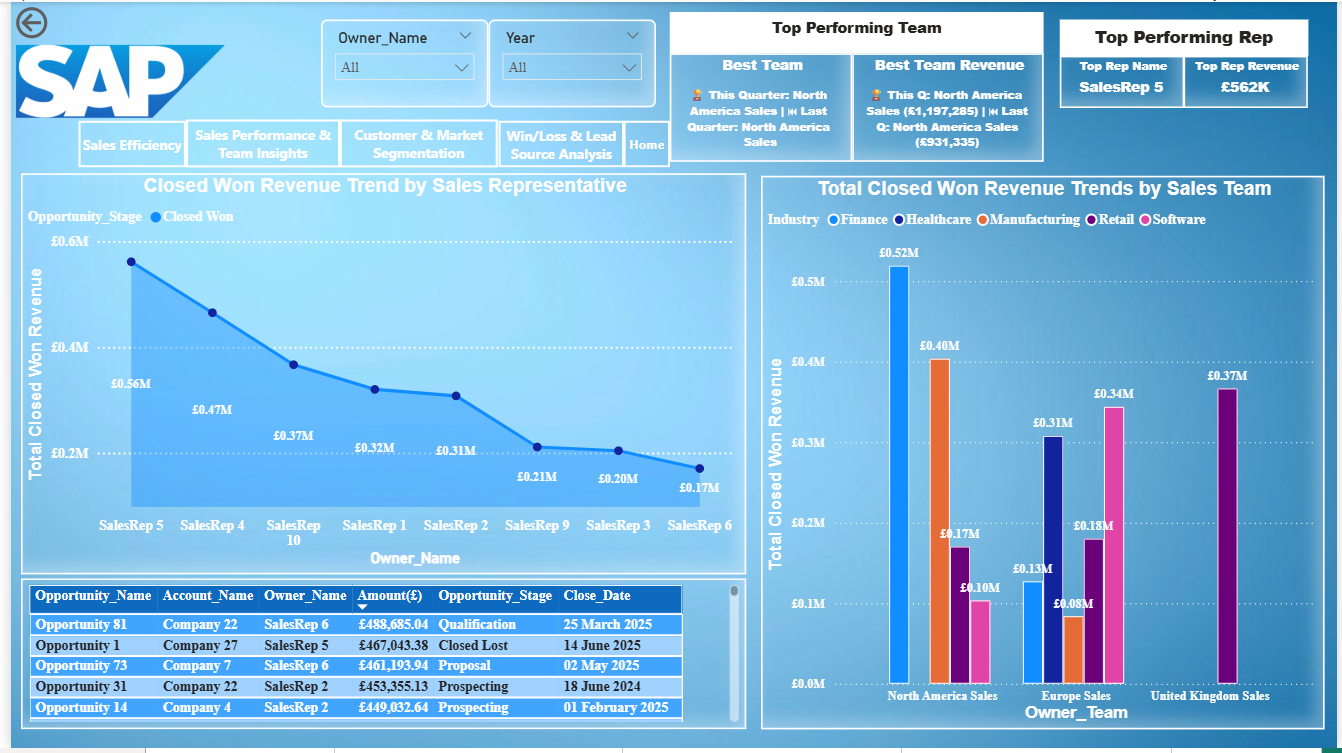

The page's visual inventory and layout, read from the dashboard file:
{"tool":"powerbi","page":{"name":"Sales Performance & Team Insights","canvas":[1280,720],"ordinal":1},"visuals":[{"type":"group","id":"g1","title":"Group 2","box":[1012.2,16.9,240.1,85.7],"z":0},{"type":"group","id":"g2","title":"Group 1","box":[635.8,9.7,360.7,146],"z":1000},{"type":"actionButton","box":[0,0,100,40],"z":2000},{"type":"image","box":[0,30.2,211.1,92.9],"z":3000},{"type":"stackedAreaChart","title":"Closed Won Revenue Trend by Sales Representative","fields":{"Y":["Salesforce_Opportunities.Total Closed Won Revenue"],"Category":["Salesforce_SalesTeam.Owner_Name"],"Series":["Salesforce_Opportunities.Opportunity_Stage"]},"box":[10,165.7,700,387.1],"z":4000},{"type":"clusteredColumnChart","title":"Total Closed Won Revenue Trends by Sales Team","fields":{"Y":["Salesforce_Opportunities.Total Closed Won Revenue"],"Category":["Salesforce_SalesTeam.Owner_Team"],"Series":["Salesforce_Accounts.Industry"]},"box":[724.3,167.1,544.3,534.3],"z":5000},{"type":"tableEx","fields":{"Values":["Salesforce_Opportunities.Opportunity_Name","Salesforce_Accounts.Account_Name","Salesforce_SalesTeam.Owner_Name","Salesforce_Opportunities.Amount(£)","Salesforce_Opportunities.Opportunity_Stage","Salesforce_Opportunities.Close_Date"]},"box":[10,555.7,700,145.7],"z":6000},{"type":"slicer","fields":{"Values":["DimDate.Year"]},"box":[461.1,16.5,161.9,85.1],"z":7000},{"type":"slicer","fields":{"Values":["Salesforce_SalesTeam.Owner_Name"]},"box":[299.1,16.5,161.9,85.1],"z":8000},{"type":"card","title":"Best Team","fields":{"Values":["DimDate.Best Team Comparison"]},"box":[635.8,50.1,176.1,105.2],"z":9000,"group":"g2"},{"type":"actionButton","box":[591.2,115,45,45],"z":9000},{"type":"textbox","box":[635.8,9.7,360.7,40.4],"z":10000,"group":"g2"},{"type":"card","title":"Top Rep Name","fields":{"Values":["Salesforce_Opportunities.Top Rep Name"]},"box":[1012.2,52.4,119.8,50.1],"z":10000,"group":"g1"},{"type":"actionButton","box":[168.8,113.8,148.8,46.2],"z":10000},{"type":"card","title":"Best Team Revenue","fields":{"Values":["DimDate.Best Team Revenue Comparison"]},"box":[811.9,50.1,184.6,105.2],"z":11000,"group":"g2"},{"type":"card","title":"Top Rep Revenue","fields":{"Values":["Salesforce_Opportunities.Top Rep Revenue"]},"box":[1132,52.4,119.8,50.1],"z":11000,"group":"g1"},{"type":"actionButton","box":[317.5,113.8,152.5,46.2],"z":11000},{"type":"textbox","box":[1012.2,16.9,239.7,35.5],"z":12000,"group":"g1"},{"type":"actionButton","box":[65,115,103.8,45],"z":12000},{"type":"actionButton","box":[470,115,121.2,45],"z":13000}]}

Visuals, with their boxes in screenshot pixels (x1, y1, x2, y2), scaled from the page's 1280x720 canvas onto the 1342x753 screenshot:
"Group 2" group: bbox=[1061, 18, 1313, 107]
"Group 1" group: bbox=[667, 10, 1045, 163]
actionButton: bbox=[0, 0, 105, 42]
image: bbox=[0, 32, 221, 129]
"Closed Won Revenue Trend by Sales Representative" stackedAreaChart: bbox=[10, 173, 744, 578]
"Total Closed Won Revenue Trends by Sales Team" clusteredColumnChart: bbox=[759, 175, 1330, 734]
tableEx - Salesforce_Opportunities.Opportunity_Name x Salesforce_Accounts.Account_Name: bbox=[10, 581, 744, 734]
slicer - DimDate.Year: bbox=[483, 17, 653, 106]
slicer - Salesforce_SalesTeam.Owner_Name: bbox=[314, 17, 483, 106]
"Best Team" card: bbox=[667, 52, 851, 162]
actionButton: bbox=[620, 120, 667, 167]
textbox: bbox=[667, 10, 1045, 52]
"Top Rep Name" card: bbox=[1061, 55, 1187, 107]
actionButton: bbox=[177, 119, 333, 167]
"Best Team Revenue" card: bbox=[851, 52, 1045, 162]
"Top Rep Revenue" card: bbox=[1187, 55, 1312, 107]
actionButton: bbox=[333, 119, 493, 167]
textbox: bbox=[1061, 18, 1313, 55]
actionButton: bbox=[68, 120, 177, 167]
actionButton: bbox=[493, 120, 620, 167]
